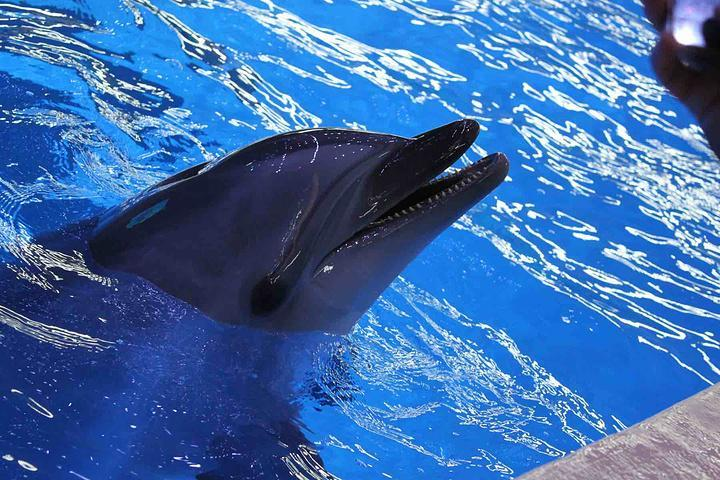fish: (11, 118, 510, 344)
